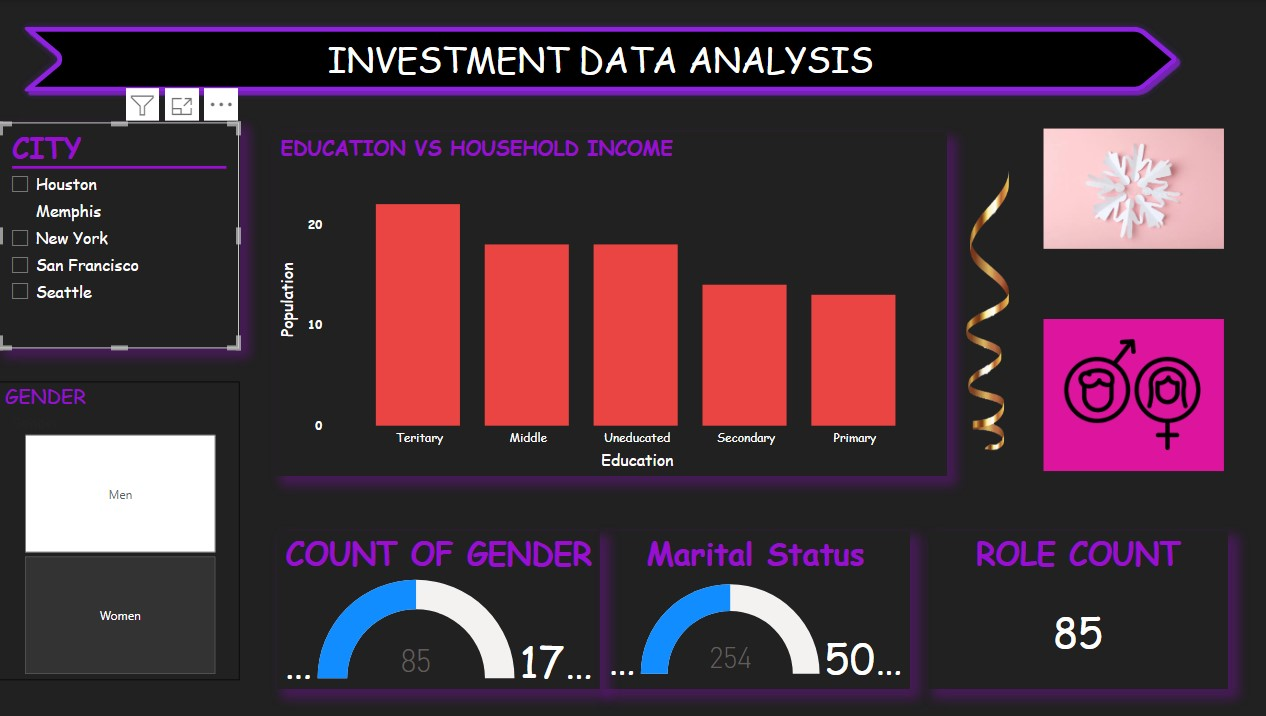

What the dashboard file says about the page in this screenshot:
{"tool":"powerbi","page":{"name":"Page 1","canvas":[1280,720],"ordinal":0},"visuals":[{"type":"gauge","title":"COUNT OF GENDER","fields":{"Y":["CountNonNull(Data.Gender)"]},"box":[279.2,533.5,325.1,158.4],"z":0},{"type":"card","title":"ROLE COUNT","fields":{"Values":["CountNonNull(Data.Role)"]},"box":[933.5,533.5,302.1,158.4],"z":1000},{"type":"columnChart","title":"EDUCATION VS HOUSEHOLD INCOME","fields":{"Category":["Data.Education"],"Y":["CountNonNull(Data.Household Income)"]},"box":[278.2,133.4,674.7,344.9],"z":2000},{"type":"shape","title":"SALES FORECASTING ANALYSIS","box":[14.6,18.8,1179.4,81.3],"z":3000},{"type":"slicer","fields":{"Values":["Data.City"]},"box":[0,122.9,241.7,227.1],"z":4000},{"type":"image","box":[1044.8,122.1,191.3,136],"z":5000},{"type":"image","box":[1044.8,287,191.3,220.3],"z":6000},{"type":"image","box":[873.6,122.1,239.2,454.4],"z":7000},{"type":"gauge","title":"Marital Status","fields":{"Y":["Sum(Data.Number of investors in family)"]},"box":[604.3,533.5,310.5,158.4],"z":8000},{"type":"slicer","title":"GENDER","fields":{"Values":["Data.Gender"]},"box":[0,383.4,241.7,300.1],"z":9000}]}

Visuals, with their boxes on the page's 1280x720 design canvas (x1, y1, x2, y2). These are canvas units, not pixel positions in the 1266x716 screenshot, which may show the page scaled, cropped or inside an application window:
"COUNT OF GENDER" gauge: Rect(279, 534, 604, 692)
"ROLE COUNT" card: Rect(934, 534, 1236, 692)
"EDUCATION VS HOUSEHOLD INCOME" columnChart: Rect(278, 133, 953, 478)
"SALES FORECASTING ANALYSIS" shape: Rect(15, 19, 1194, 100)
slicer - Data.City: Rect(0, 123, 242, 350)
image: Rect(1045, 122, 1236, 258)
image: Rect(1045, 287, 1236, 507)
image: Rect(874, 122, 1113, 576)
"Marital Status" gauge: Rect(604, 534, 915, 692)
"GENDER" slicer: Rect(0, 383, 242, 684)
